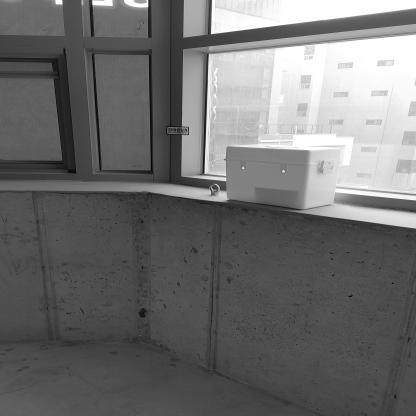DDL: (228, 144, 334, 209)
